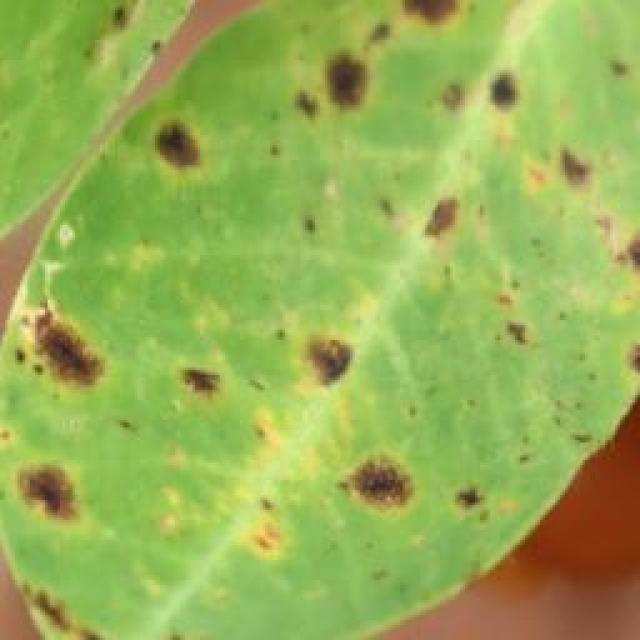Yellowish: (15, 18, 640, 620)
